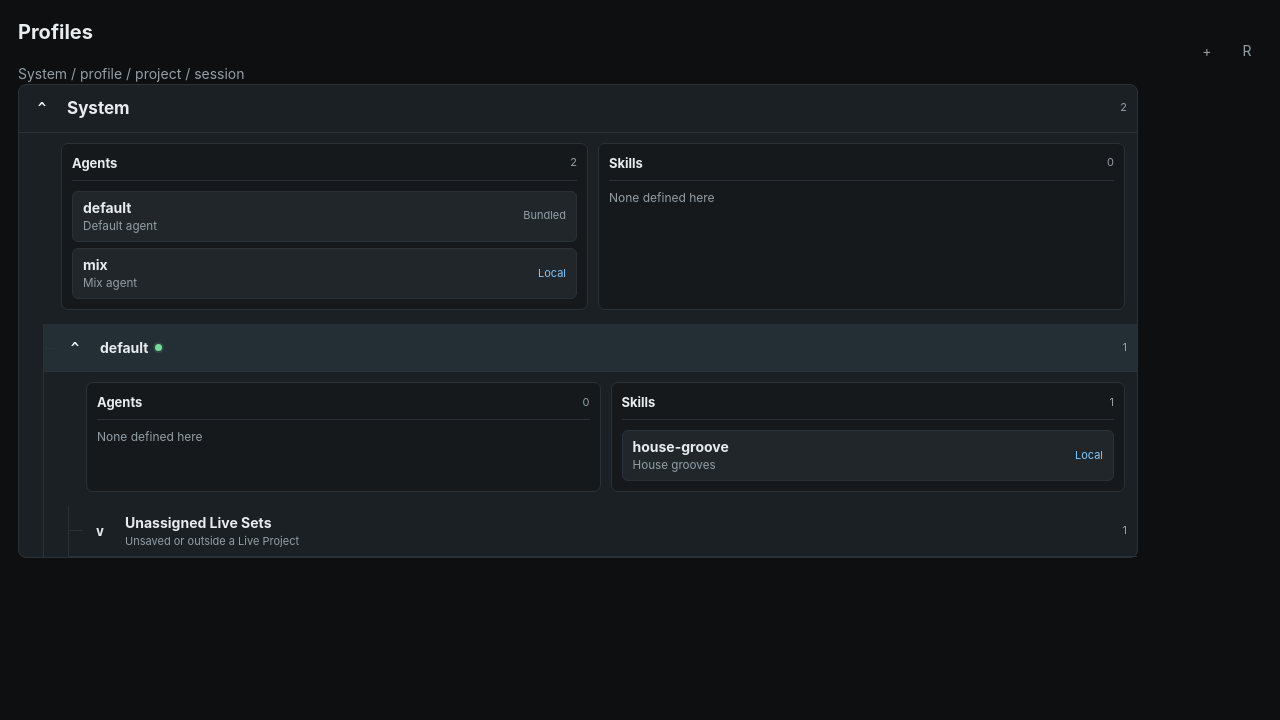
ProfileManagerView › shows an active in-memory session before it is persisted
Step 1. Click the button named "Expand unassigned Live Sets" → (100, 531), box [87,518,113,544]
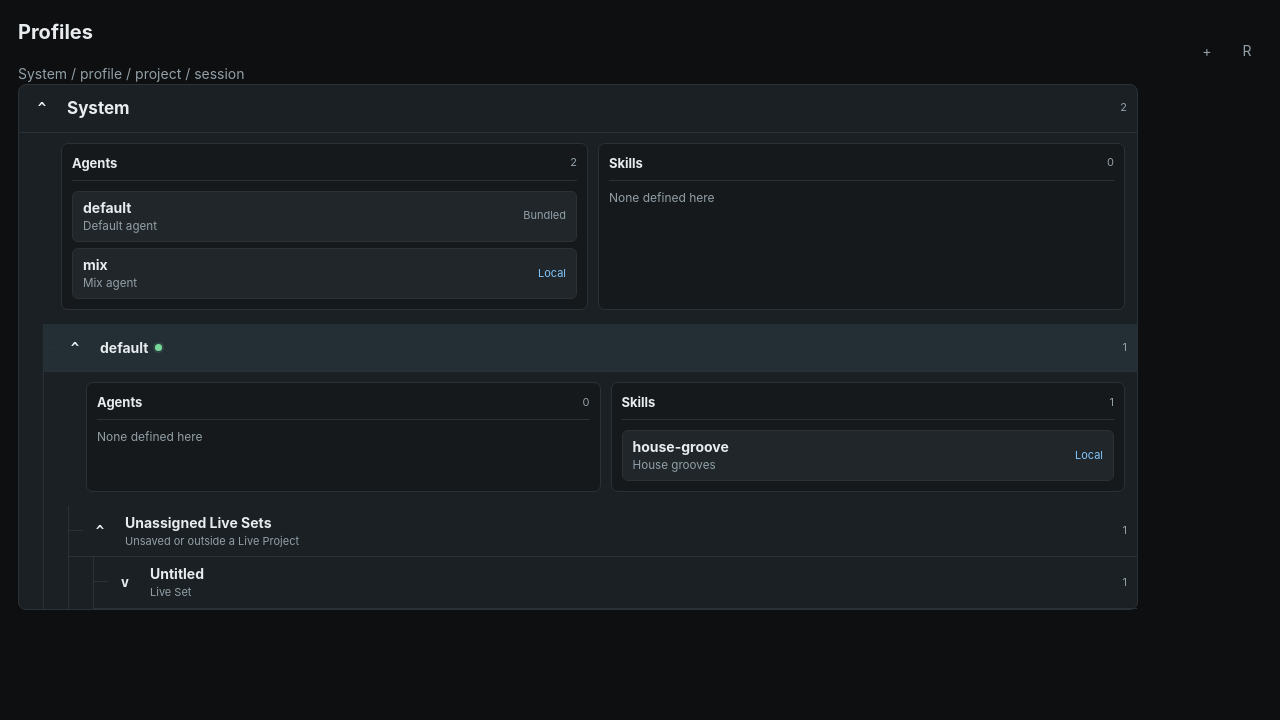
Step 2. Click the button named "Expand Untitled Live Set" → (125, 583), box [112,570,138,596]
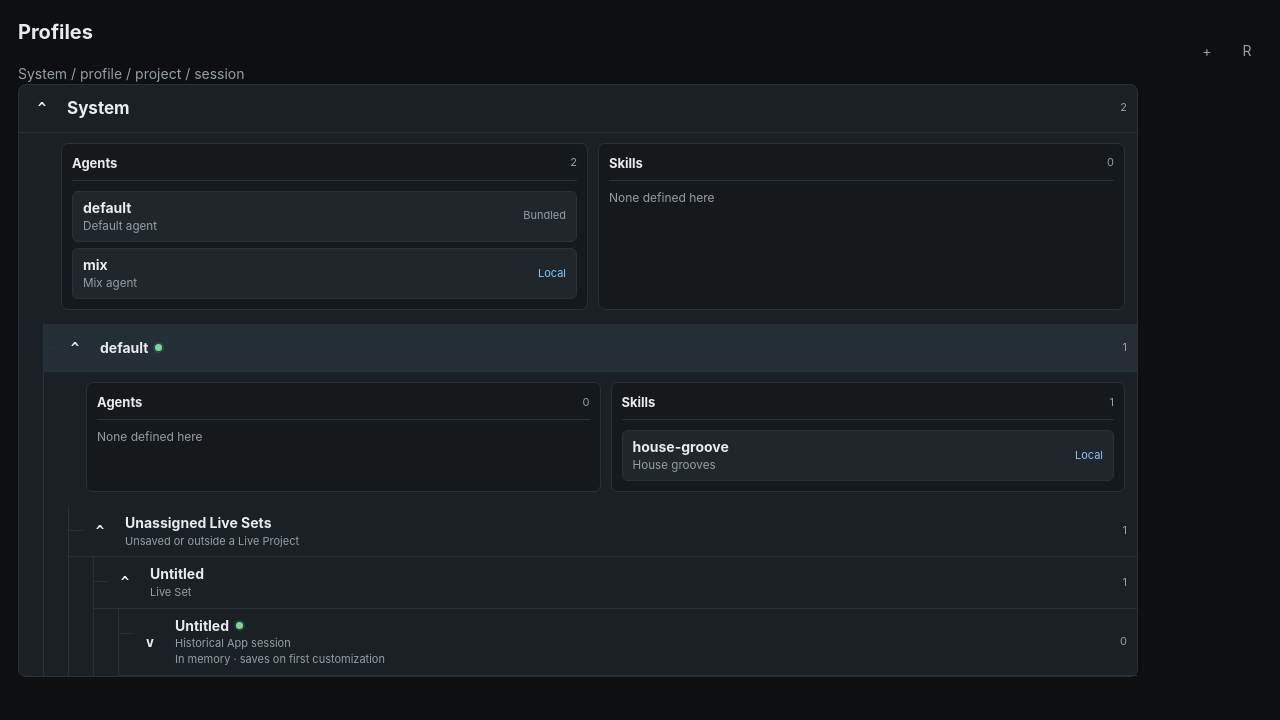
Now the text "Untitled" is shown, box [150,566,204,582]
Now the text "In memory · saves on first customization" is shown, box [175,652,385,666]
